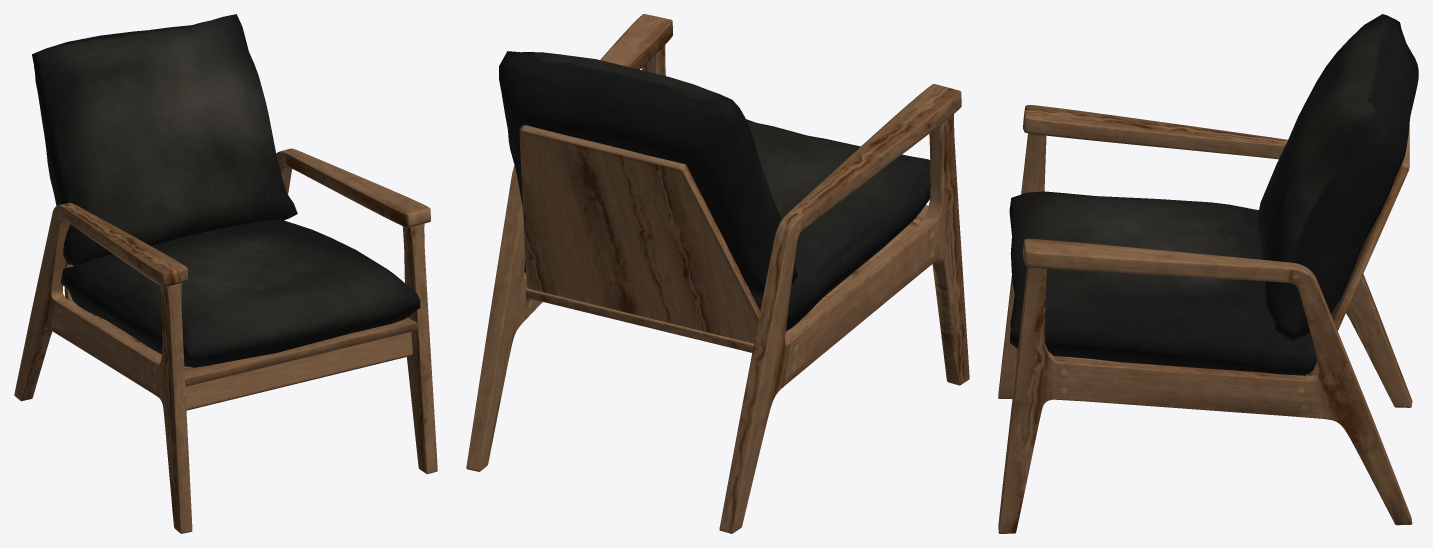
The model's file is armchair.glb.
The picture shows the model from 3 angles, left to right: view 1: azimuth 30°, elevation 25°; view 2: azimuth 150°, elevation 25°; view 3: azimuth 270°, elevation 25°; orthographic projection. The views are drawn at different scales.
Parts seen in each view (by area): view 1: modern_arm_chair_01; view 2: modern_arm_chair_01; view 3: modern_arm_chair_01.
Boxes of the visible parts, x1,y1,x2,y2 form: modern_arm_chair_01: [14, 14, 437, 533]; modern_arm_chair_01: [466, 14, 969, 533]; modern_arm_chair_01: [998, 14, 1418, 533].
Size of the model in its own units: 0.8203 by 1.02 by 0.9865.
Materials: 2 (2 with a texture image).
